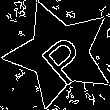P_NW: (28, 22, 91, 85)
